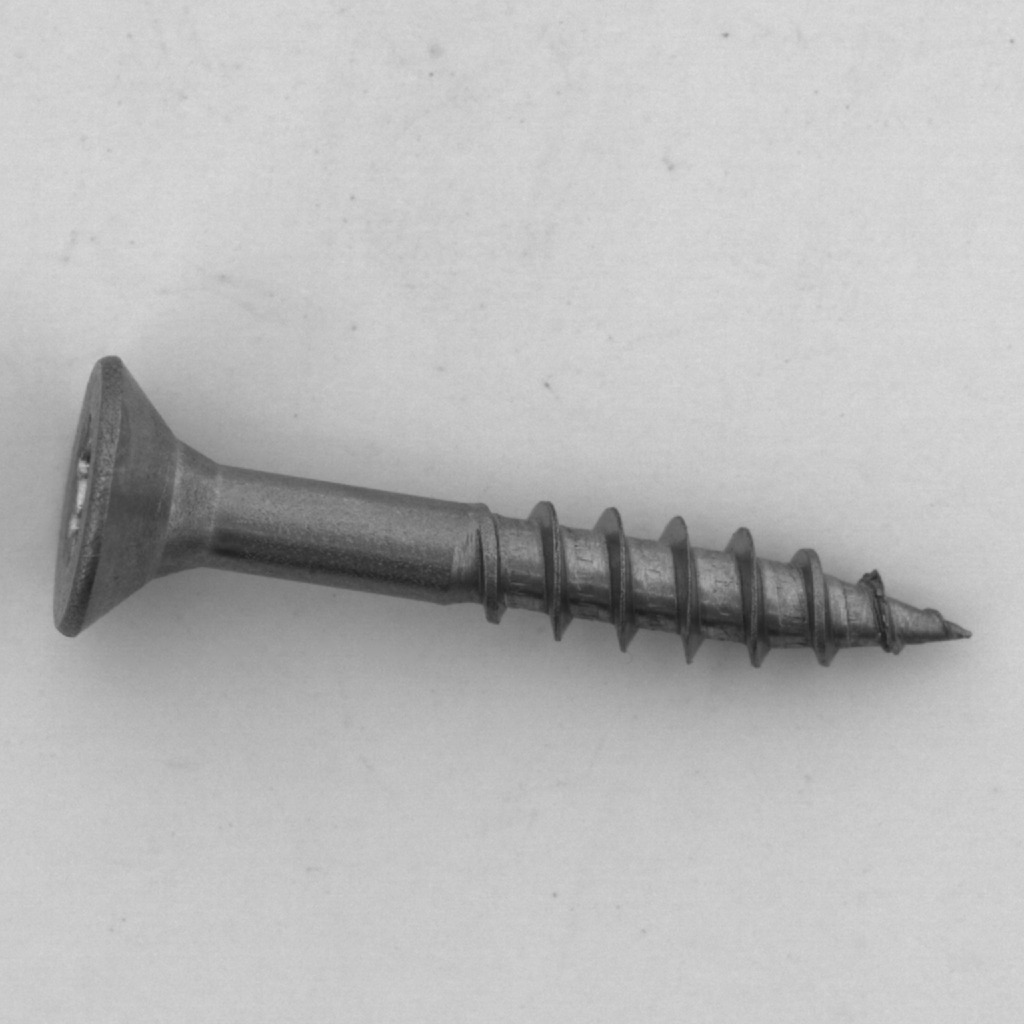good: (34, 339, 977, 681)
